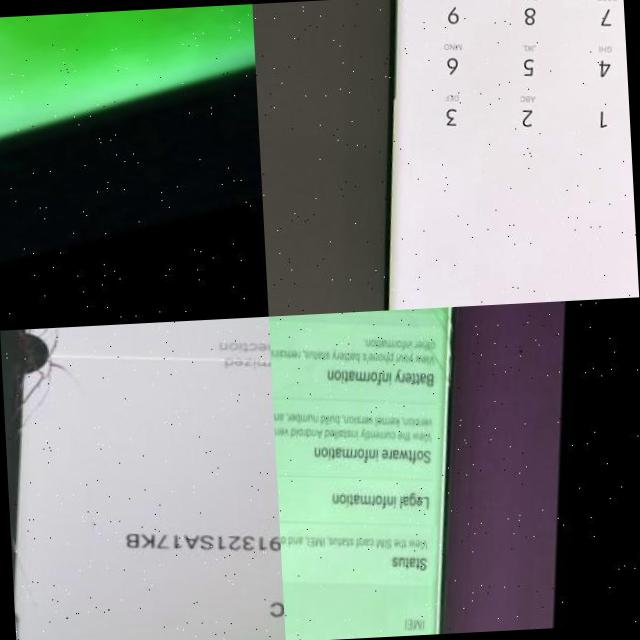dead pixel: (1, 327, 76, 387)
screen crack: (270, 332, 355, 478), (387, 306, 462, 406), (26, 326, 88, 438), (14, 585, 83, 640)
